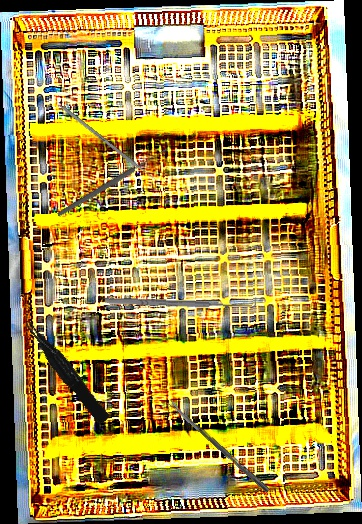Hook Surgical: (104, 291, 257, 311)
Pusher: (61, 105, 163, 187)
Surgical Spoon: (167, 398, 271, 494), (56, 146, 169, 219)
Tissue Forceps: (22, 313, 111, 429)
